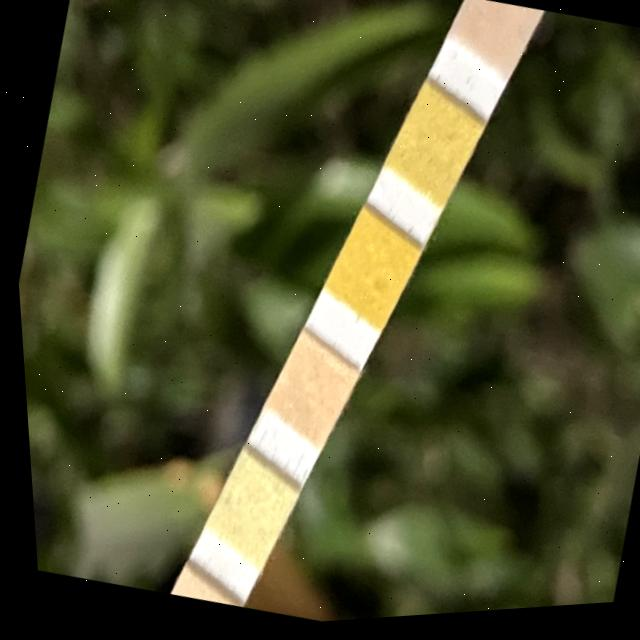Blood: (332, 233, 403, 309)
Ketone: (460, 0, 532, 63)
Protein: (207, 470, 280, 552)
SpGravity: (392, 112, 468, 193)
Urobilinogen: (162, 587, 213, 608)
pH: (271, 351, 339, 434)
